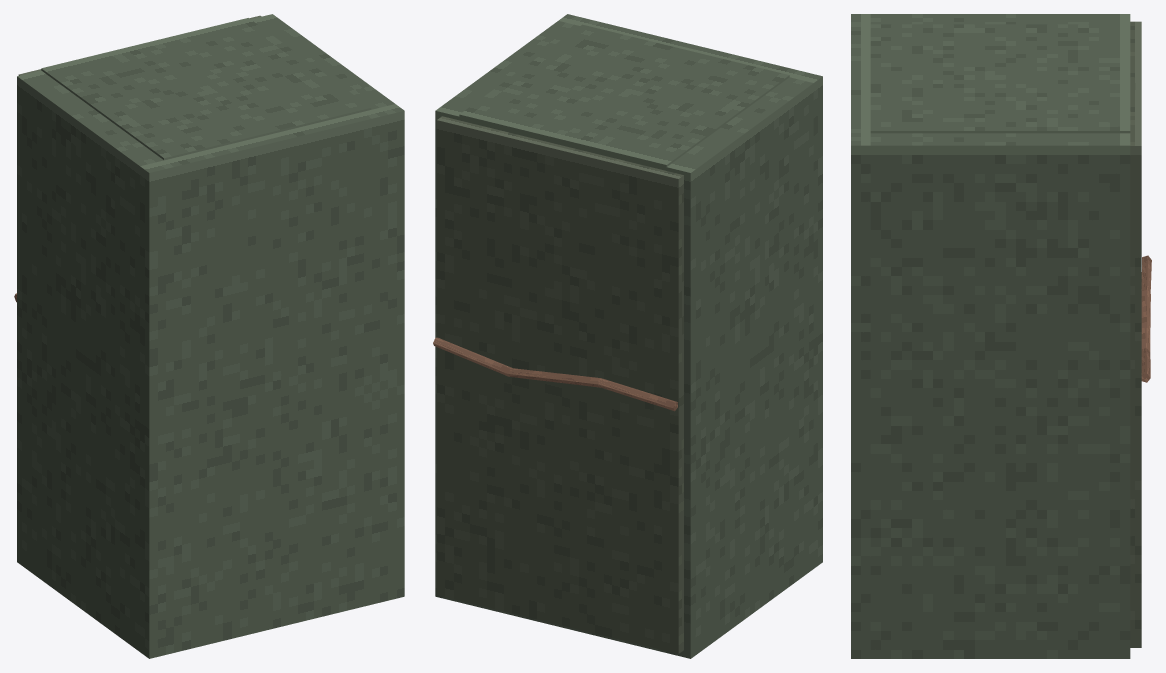
Rendered from f_nl_powerbox.glb.
3 views of the same model, side by side, from view 1: azimuth 30°, elevation 25°; view 2: azimuth 150°, elevation 25°; view 3: azimuth 270°, elevation 25° (orthographic). The views are drawn at different scales.
Parts seen in each view (by area): view 1: block_back, block_side--0.28800000000000003, block_shelf-2, block_side-0.28800000000000003; view 2: block_welded-rusted-utility-cover, block_side--0.28800000000000003, block_shelf-2, block_back, block_side-0.28800000000000003, block_organic-twisting-weld-seam-2, block_organic-twisting-weld-seam-1, block_organic-twisting-weld-seam-3; view 3: block_side-0.28800000000000003, block_shelf-2, block_back, block_welded-rusted-utility-cover, block_side--0.28800000000000003, block_organic-twisting-weld-seam-2.
Boxes of the visible parts, box(x1,y1,x2,y2) form: block_back: box(140, 104, 404, 658); block_side--0.28800000000000003: box(17, 70, 163, 651); block_shelf-2: box(41, 18, 371, 160); block_side-0.28800000000000003: box(251, 14, 394, 109); block_welded-rusted-utility-cover: box(437, 116, 683, 653); block_side--0.28800000000000003: box(666, 77, 813, 658); block_shelf-2: box(459, 24, 789, 170); block_back: box(558, 14, 822, 568); block_side-0.28800000000000003: box(435, 21, 579, 602); block_organic-twisting-weld-seam-2: box(508, 368, 601, 387); block_organic-twisting-weld-seam-1: box(598, 378, 677, 411); block_organic-twisting-weld-seam-3: box(433, 337, 512, 376); block_side-0.28800000000000003: box(870, 133, 1130, 658); block_shelf-2: box(870, 24, 1130, 133); block_back: box(851, 14, 870, 658); block_welded-rusted-utility-cover: box(1130, 21, 1141, 647); block_side--0.28800000000000003: box(870, 14, 1130, 24); block_organic-twisting-weld-seam-2: box(1141, 290, 1150, 351).
Size of the model in its own units: 0.636 by 1.16 by 0.614.
1 material, 1 textured.
